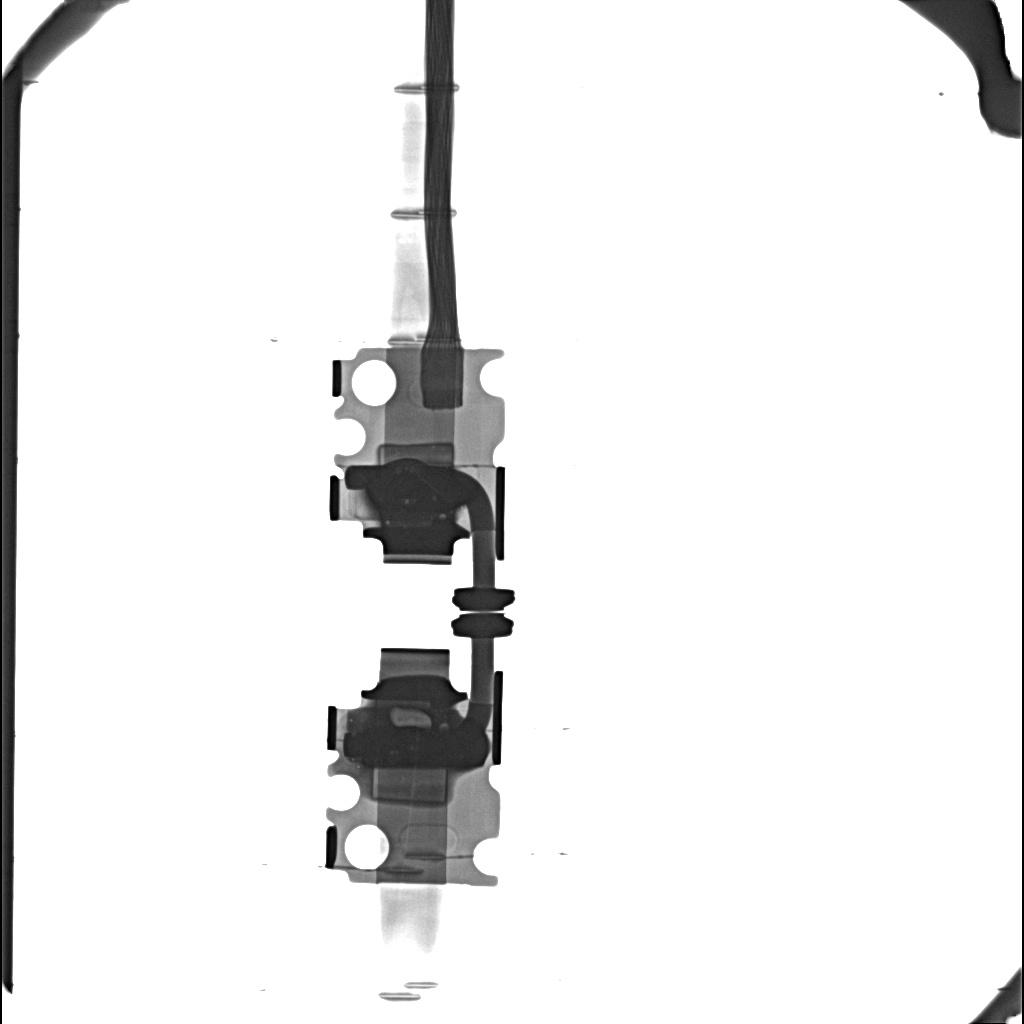defect: (355, 729, 490, 769), (367, 467, 472, 509), (370, 769, 450, 804), (377, 443, 455, 464), (390, 709, 431, 727)
